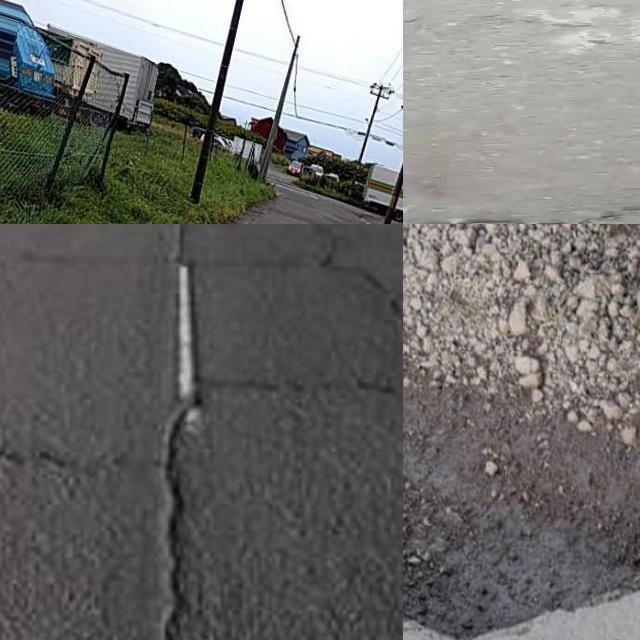Melintang: (199, 368, 403, 418), (403, 192, 640, 224), (0, 435, 131, 488)
Memanjang: (148, 224, 204, 640), (299, 224, 403, 345)
Pinggir: (403, 343, 640, 640)
